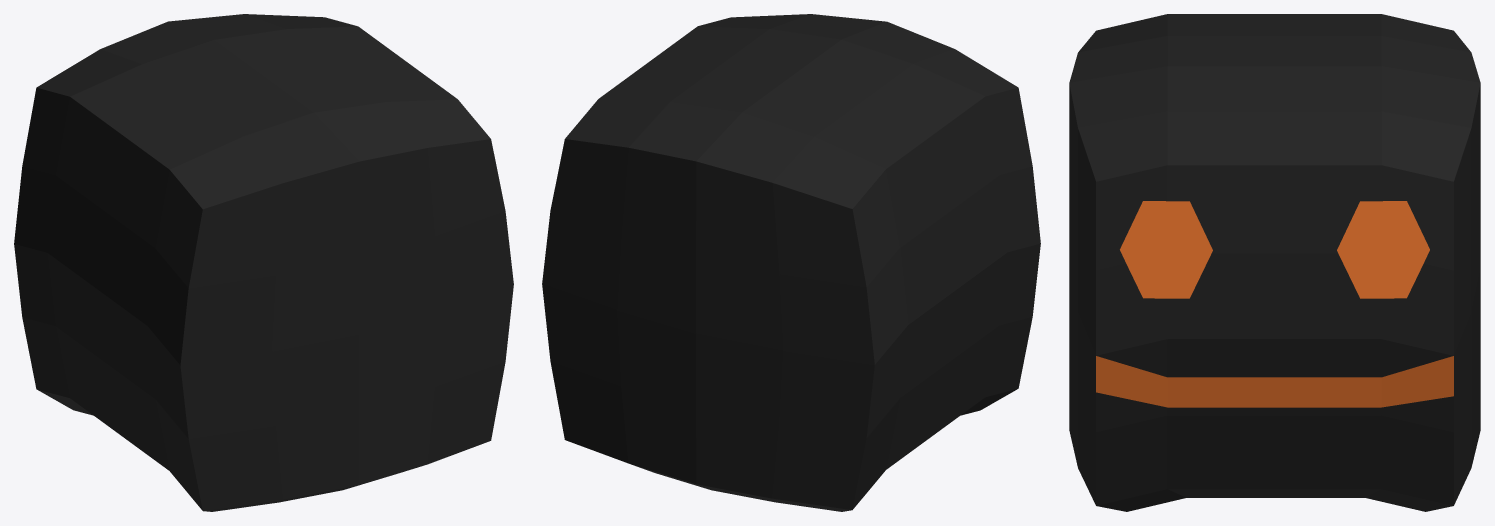
Rendered from model-enemy-robot-air-shooterRobot.fbx.
The picture shows the model from 3 angles, left to right: view 1: azimuth 30°, elevation 25°; view 2: azimuth 150°, elevation 25°; view 3: azimuth 270°, elevation 25°; orthographic projection. The views are drawn at different scales.
Visible parts, largest first — view 1: mesh; view 2: mesh; view 3: mesh.
Part boxes in pixels (x1,y1,x2,y2): mesh: (14, 14, 513, 511); mesh: (542, 14, 1040, 511); mesh: (1069, 14, 1480, 511).
Bounding box in the file's own units: 0.7022 × 0.698 × 0.7166.
